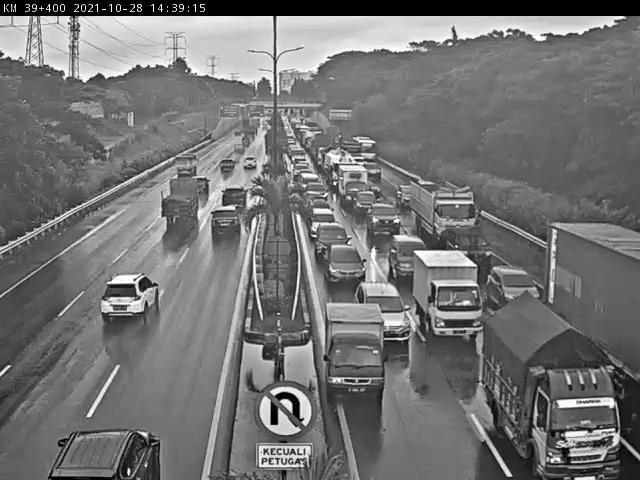big truck: (539, 211, 640, 404), (407, 174, 478, 247)
car: (49, 425, 181, 480), (357, 271, 425, 353), (97, 267, 166, 328), (479, 251, 542, 317), (322, 242, 369, 290), (442, 222, 493, 265), (200, 203, 252, 243), (209, 183, 259, 221), (315, 222, 353, 266), (388, 234, 425, 277), (367, 203, 403, 238), (215, 156, 237, 177), (243, 156, 259, 172)
mid truck: (469, 283, 635, 480), (403, 247, 485, 353), (147, 171, 203, 232)
small truck: (315, 295, 397, 407), (167, 153, 201, 179)
